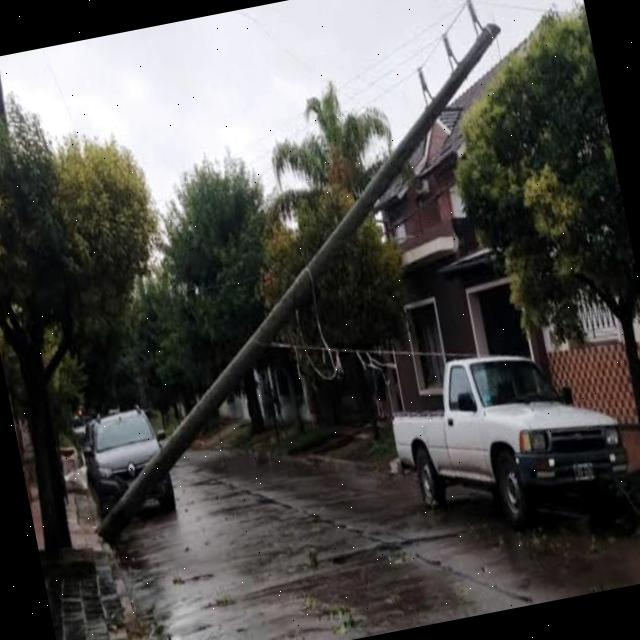Broken Pole: (98, 0, 503, 549)
